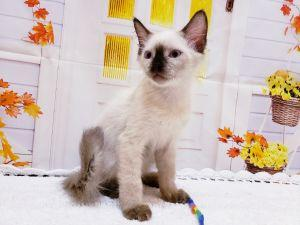siamese: (127, 7, 216, 93)
